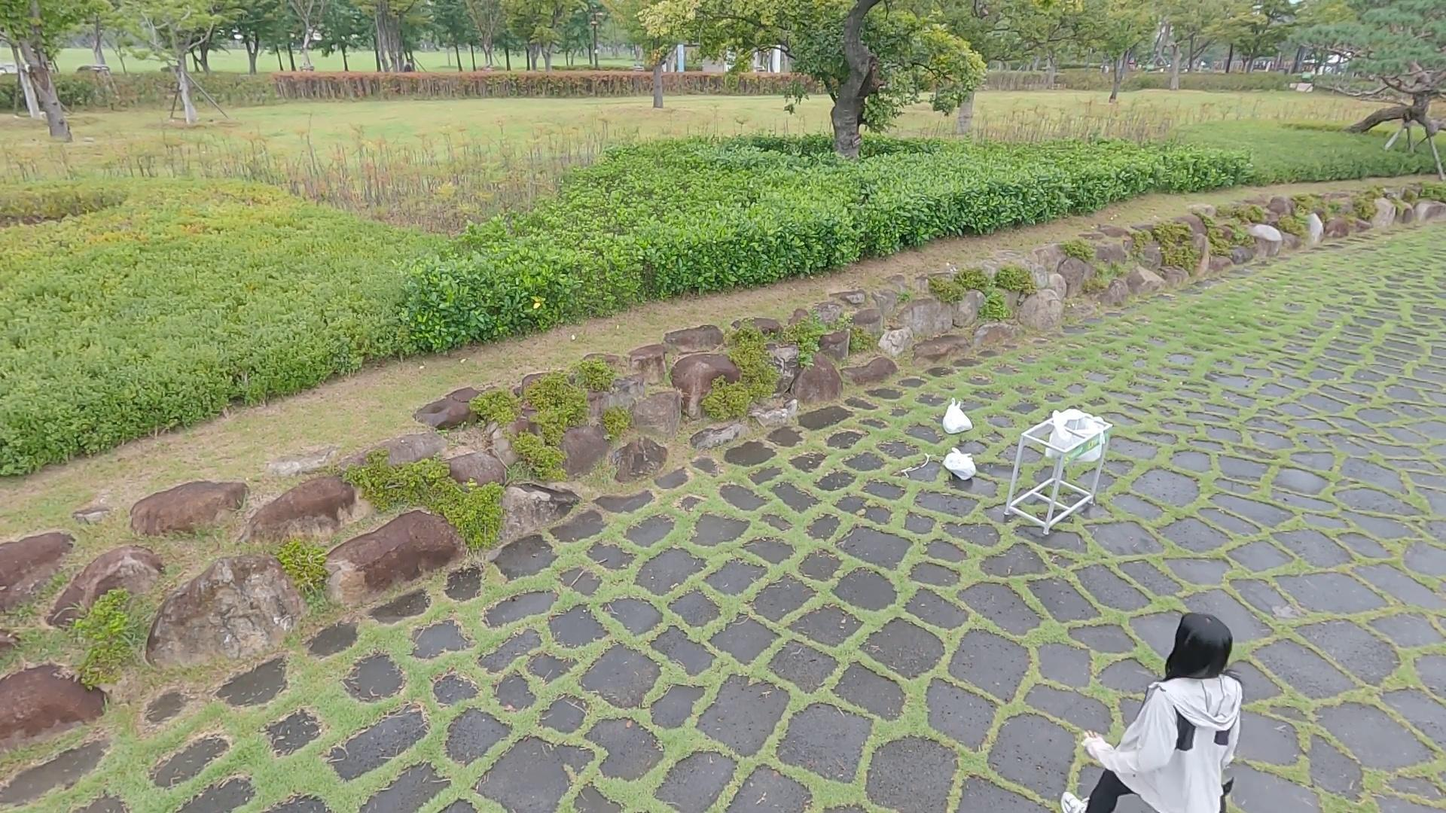person: (1054, 605, 1255, 813)
trash: (941, 444, 980, 487), (943, 395, 974, 437)
